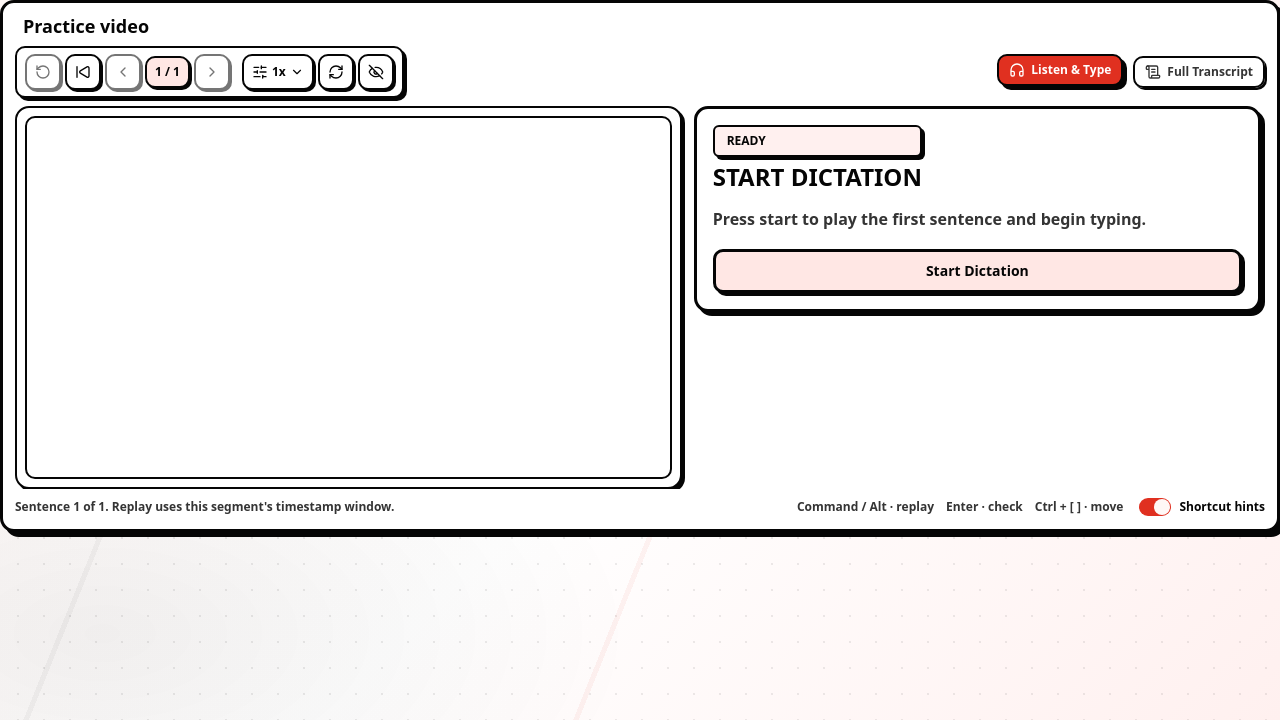
DictationPracticeShell attempts › Check verdict appears before the session POST resolves, then the attempt lands
Click the button "Start Dictation".
click(977, 270)  # box [713,248,1242,292]
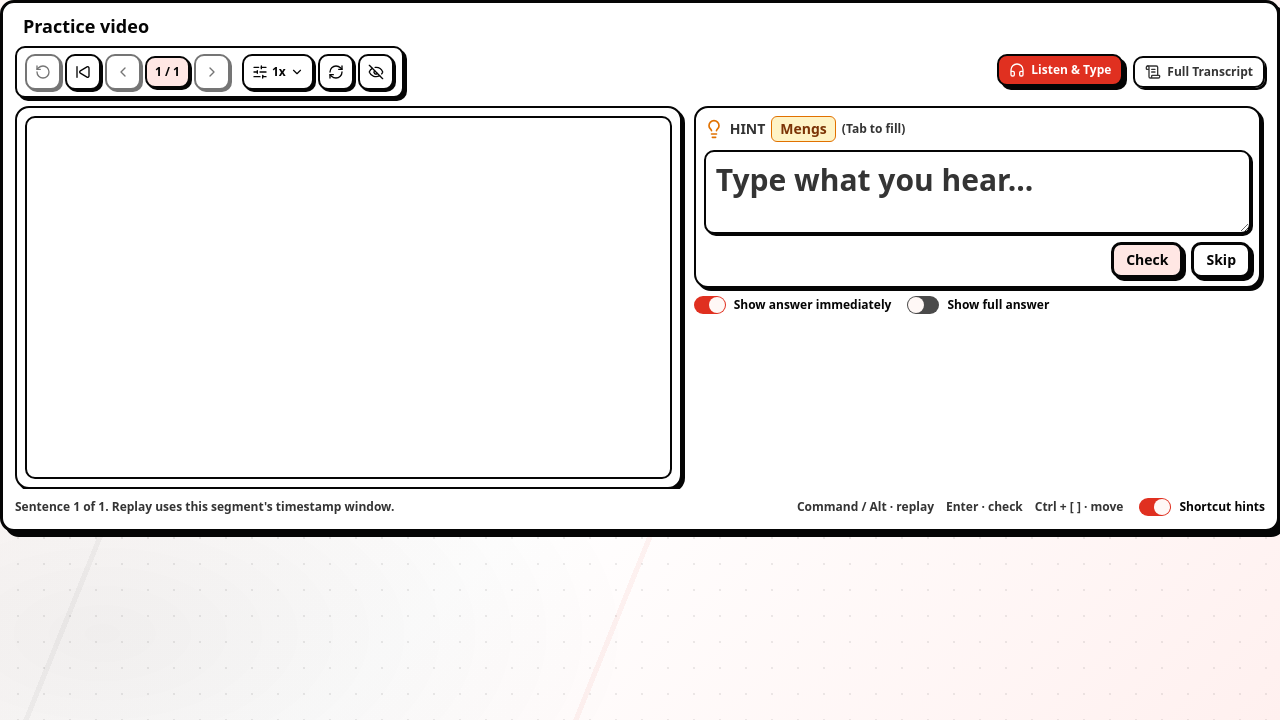
Type "kjhk" into the text box labelled "Type what you hear".
click(977, 192); type("kjhk")  # box [706,152,1249,232]
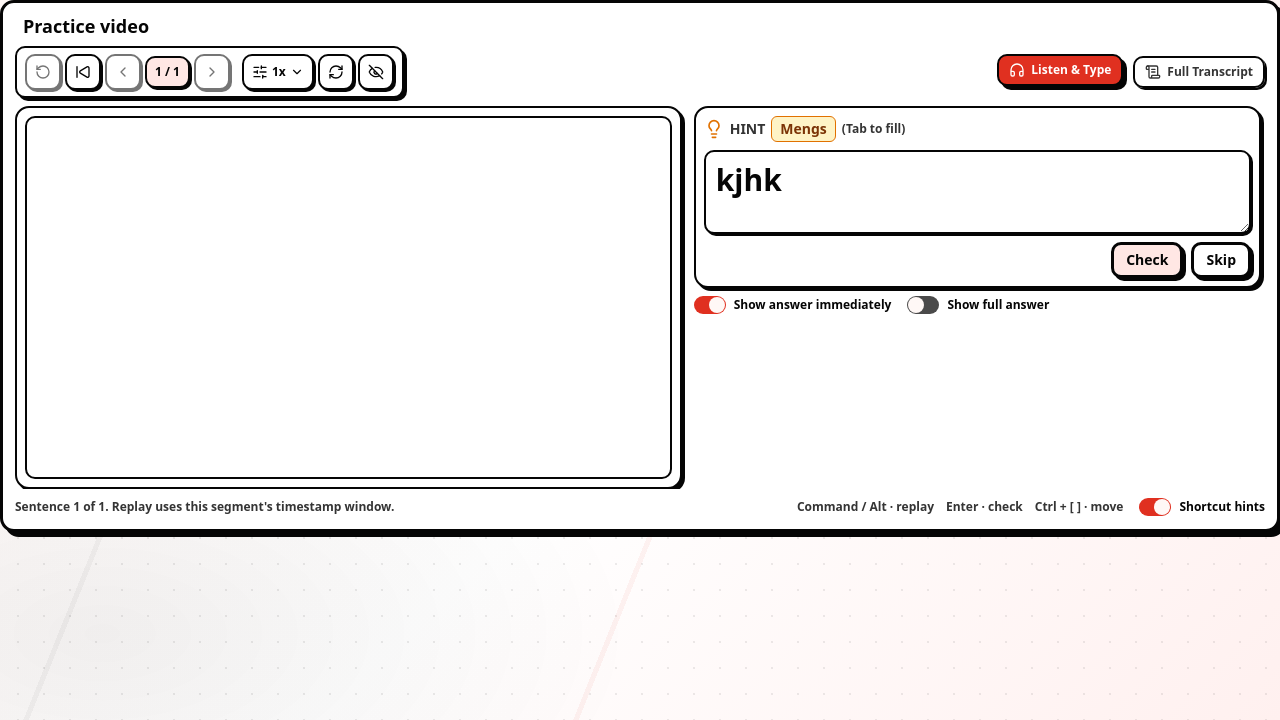
Click the button "Check".
click(1147, 260)  # box [1111,242,1184,278]
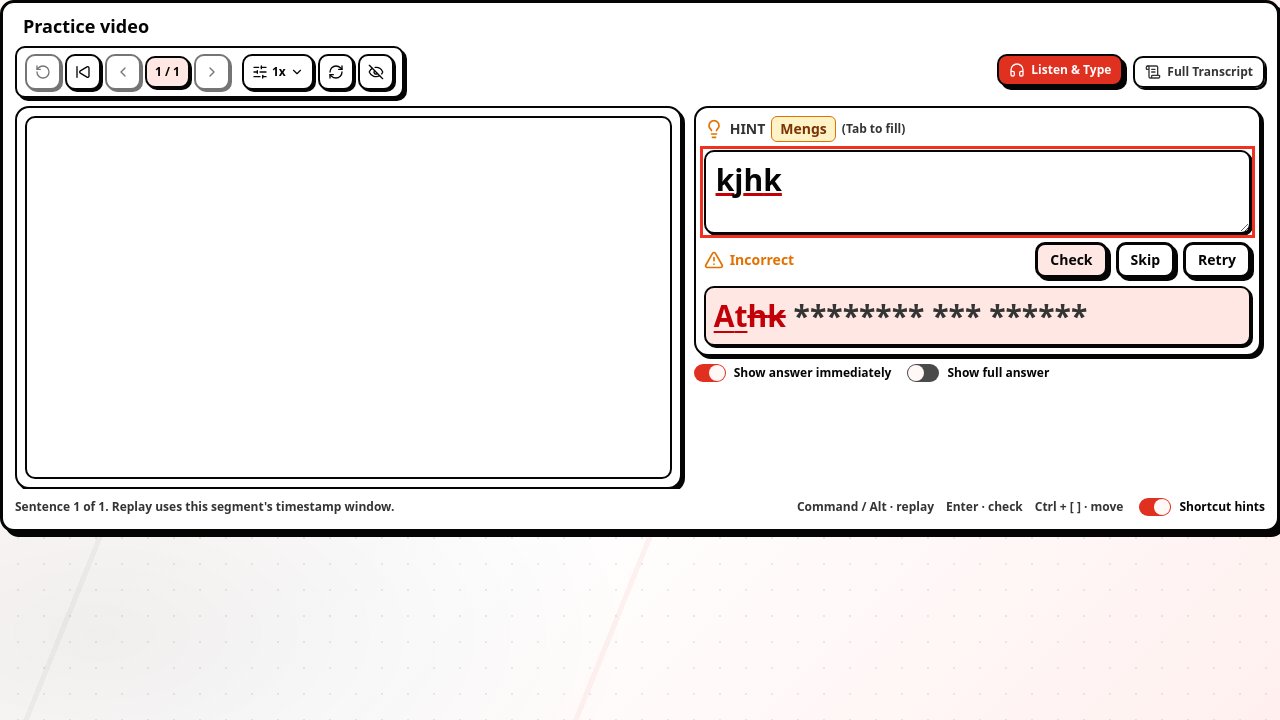
Check: the message reads "Incorrect", box [730,250,794,268]
